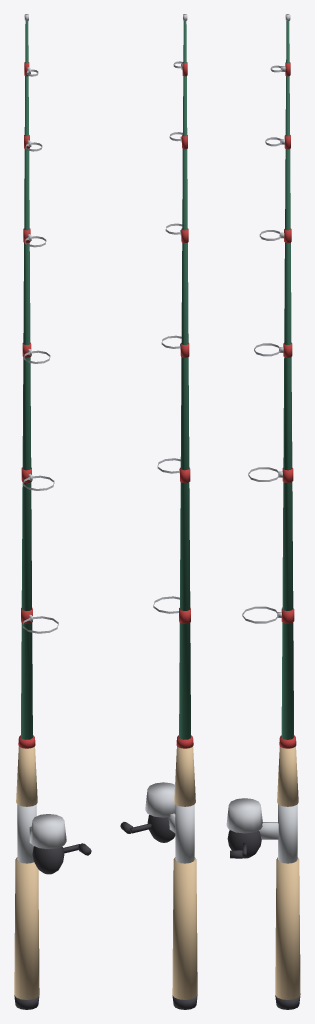
File: rod.glb
The picture shows the model from 3 angles, left to right: view 1: azimuth 30°, elevation 25°; view 2: azimuth 210°, elevation 25°; view 3: azimuth 270°, elevation 25°; orthographic projection.
Parts seen in each view (by area): view 1: rod; view 2: rod; view 3: rod.
Boxes of the visible parts, x1,y1,x2,y2 form: rod: (14, 14, 91, 1009); rod: (120, 14, 197, 1009); rod: (226, 14, 300, 1009).
Bounding box in the file's own units: 0.105 × 1.9 × 0.129.
